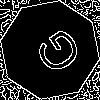G: (25, 25, 85, 83)
